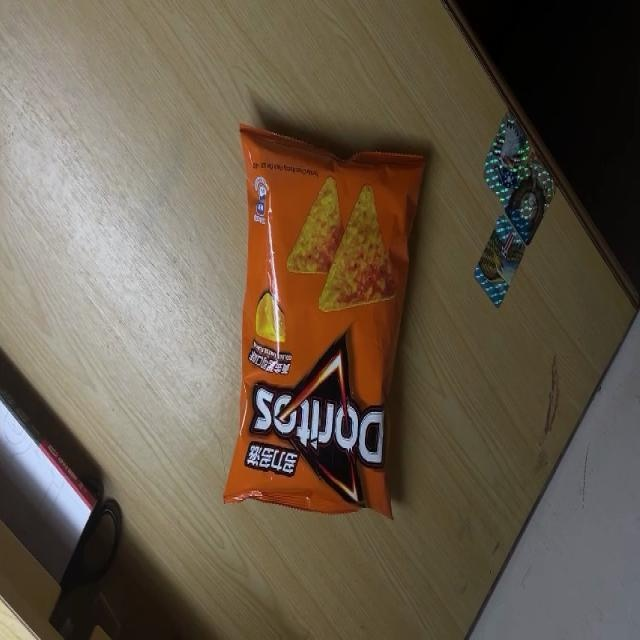Doritos: (224, 121, 431, 522)
